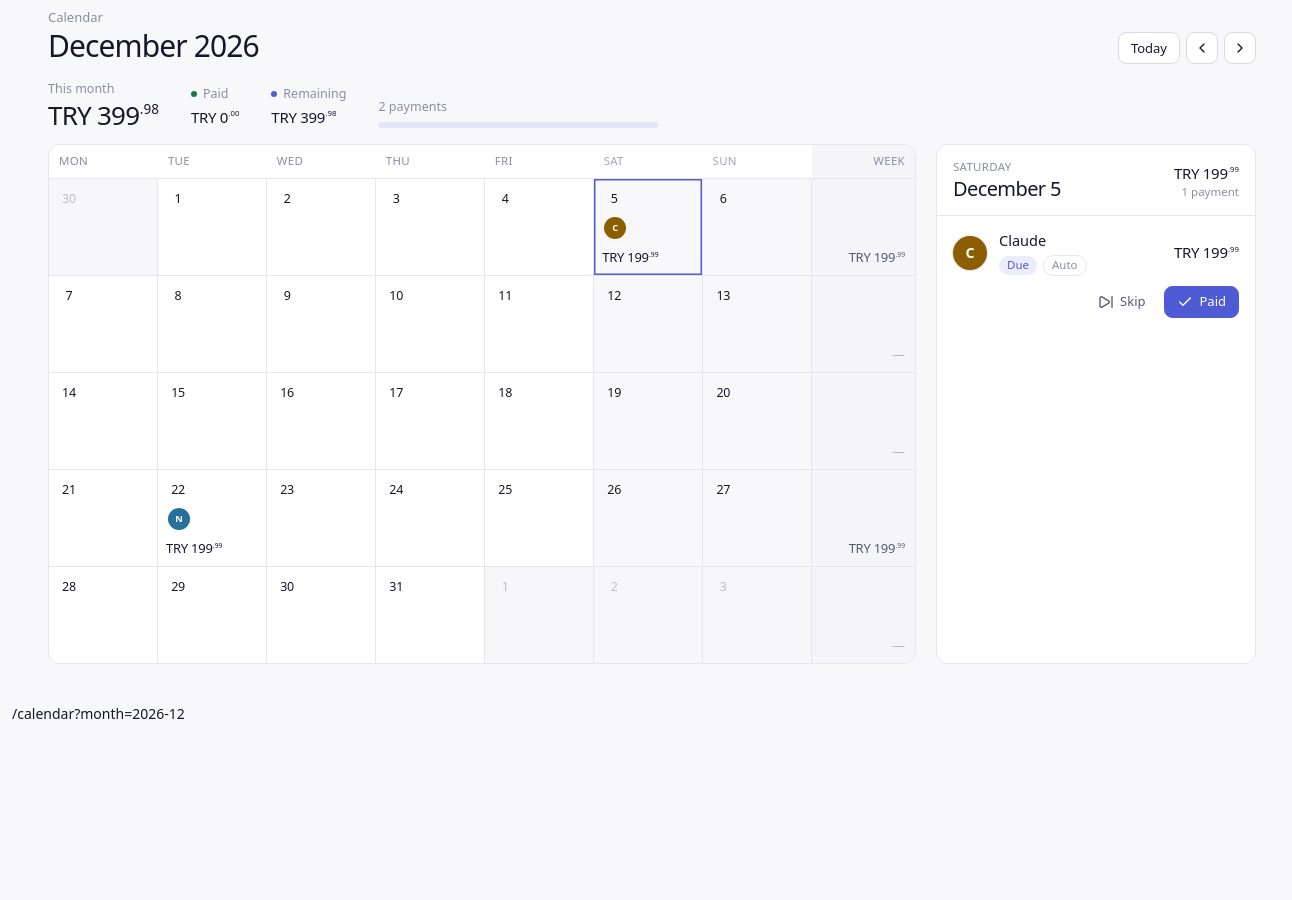
Calendar › clicking a day shows its payments in the side panel
The image size is (1292, 900).
Later steps or results of the test are not shown.
expect the text "Claude" is shown: met, box x1=999 y1=230 x2=1046 y2=250
Click the button with aria-label "december 22": click(212, 518) x1=158 y1=470 x2=266 y2=566
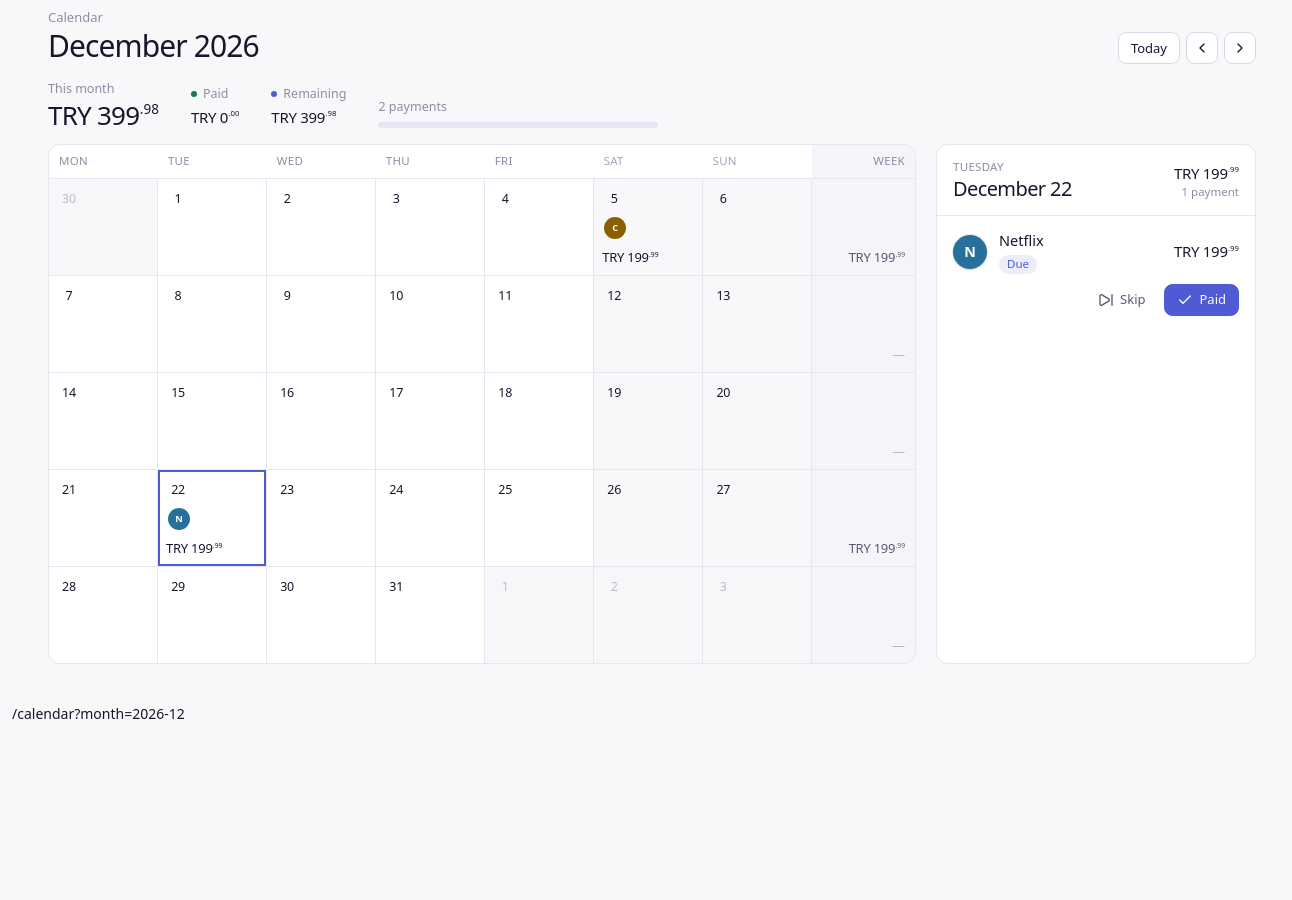
expect the heading "December 22" is shown: met, box x1=953 y1=175 x2=1072 y2=202
expect the text "Netflix" is shown: met, box x1=999 y1=230 x2=1044 y2=250
expect the text "Claude" is gone: met
